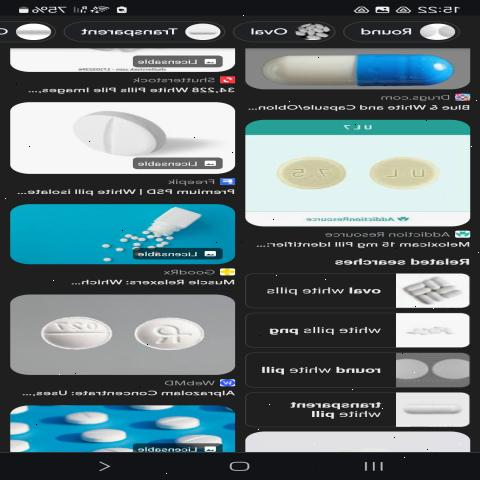Pill: (248, 51, 460, 95), (59, 107, 176, 158), (26, 302, 118, 359), (344, 145, 440, 196), (258, 150, 360, 197), (129, 306, 213, 360), (71, 427, 138, 445), (147, 412, 200, 433), (62, 406, 113, 427)
